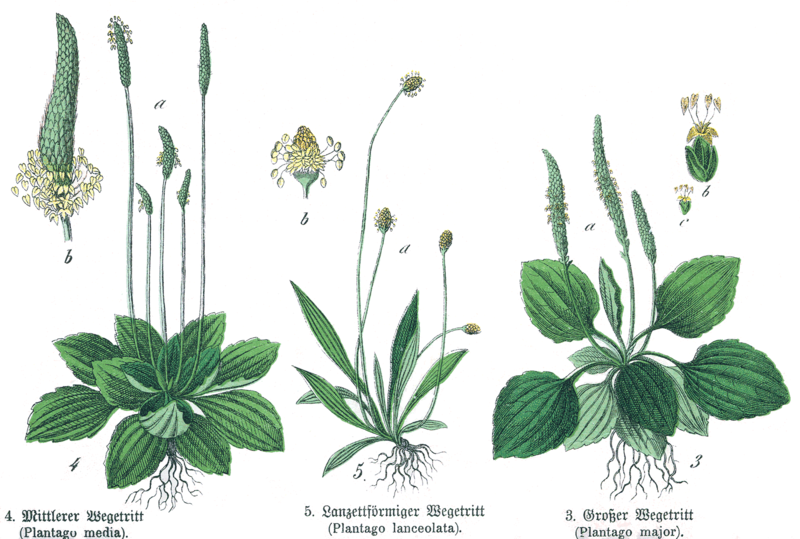buckhorn plantain: (62, 15, 314, 442), (489, 109, 772, 453), (296, 61, 473, 453)
